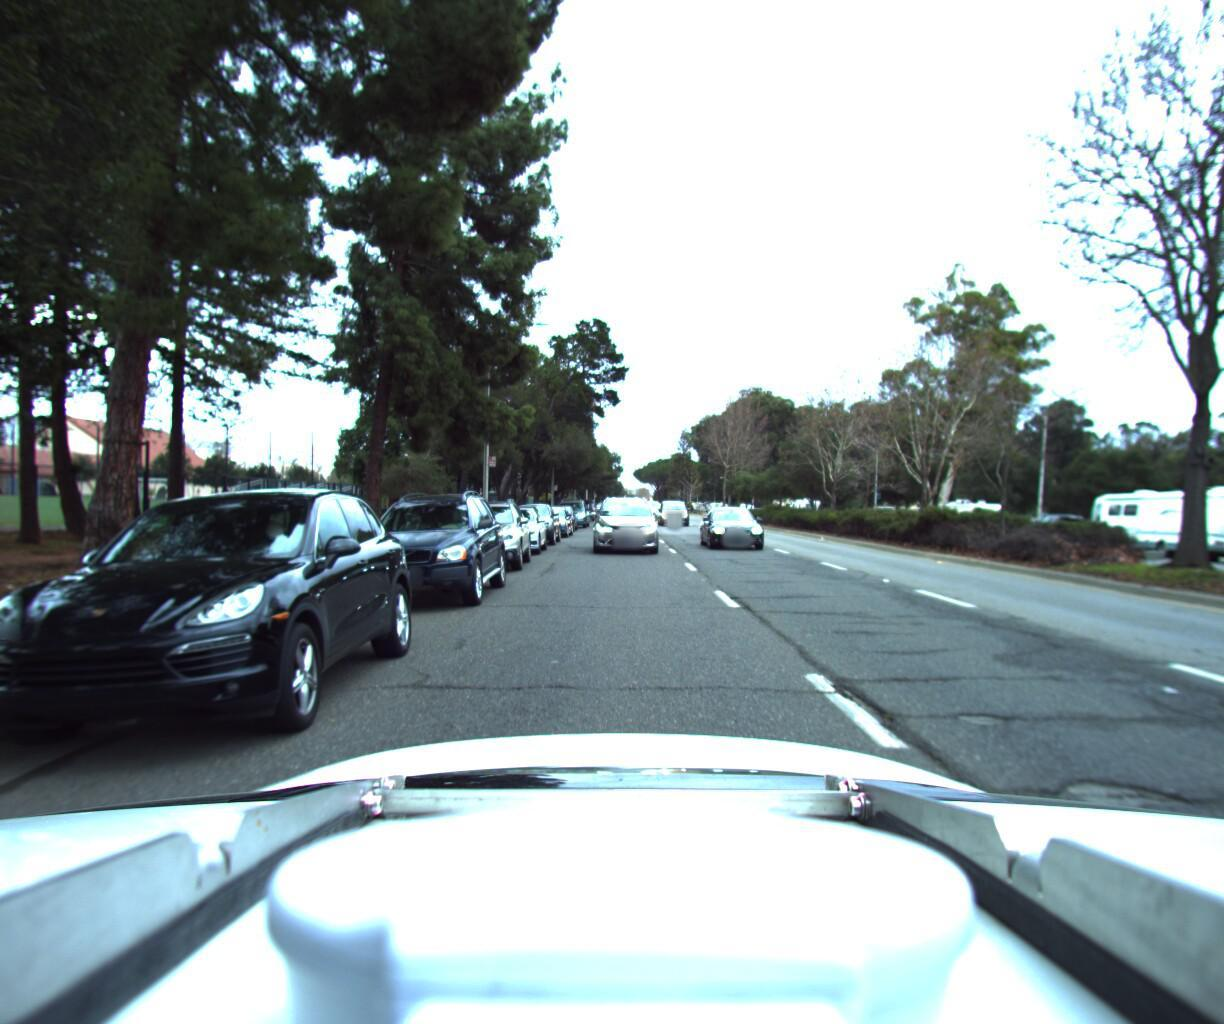car: (334, 473, 507, 604), (431, 486, 534, 568), (591, 483, 661, 548), (474, 497, 549, 549), (699, 499, 775, 547), (503, 494, 560, 541), (525, 496, 571, 533), (552, 490, 589, 522), (661, 489, 694, 520)
other_vehicle: (1072, 475, 1224, 563), (927, 490, 1009, 532)
